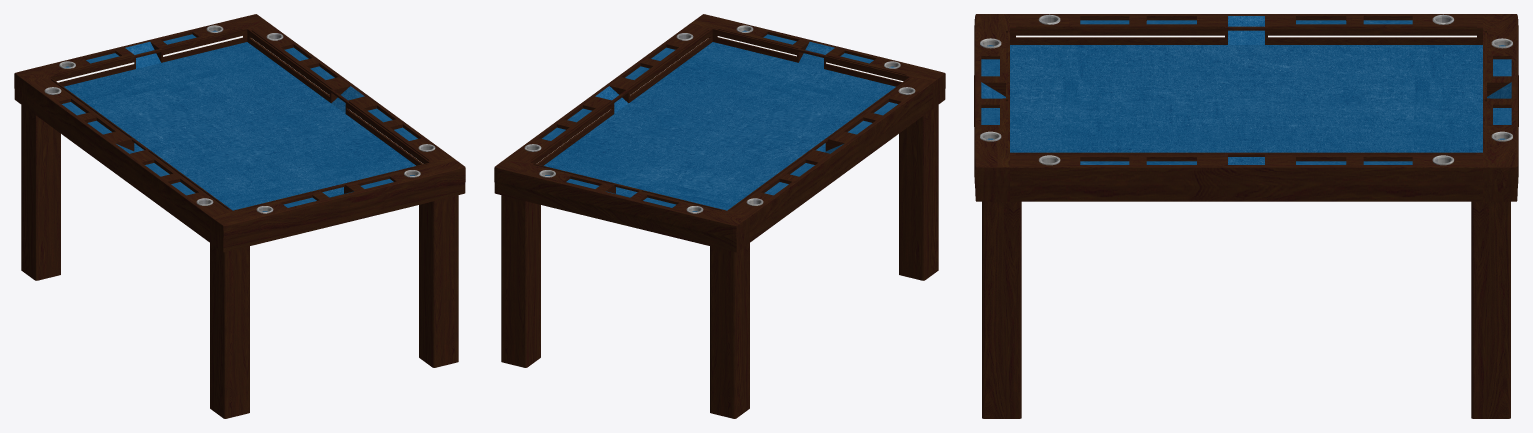
Rendered from mesa.glb.
The picture shows the model from 3 angles, left to right: view 1: azimuth 30°, elevation 25°; view 2: azimuth 150°, elevation 25°; view 3: azimuth 270°, elevation 25°; orthographic projection. The views are drawn at different scales.
Parts seen in each view (by area): view 1: Cube.007; view 2: Cube.007; view 3: Cube.007, Cube.008, Cube.013.
Part boxes in pixels (box(x1,y1,x2,y2)): Cube.007: box(14, 14, 465, 418); Cube.007: box(494, 14, 945, 418); Cube.007: box(974, 14, 1518, 418); Cube.008: box(1016, 35, 1224, 37); Cube.013: box(1268, 35, 1476, 37).
Size of the model in its own units: 1 by 0.7782 by 1.5.
Materials: 4 (3 with a texture image).
